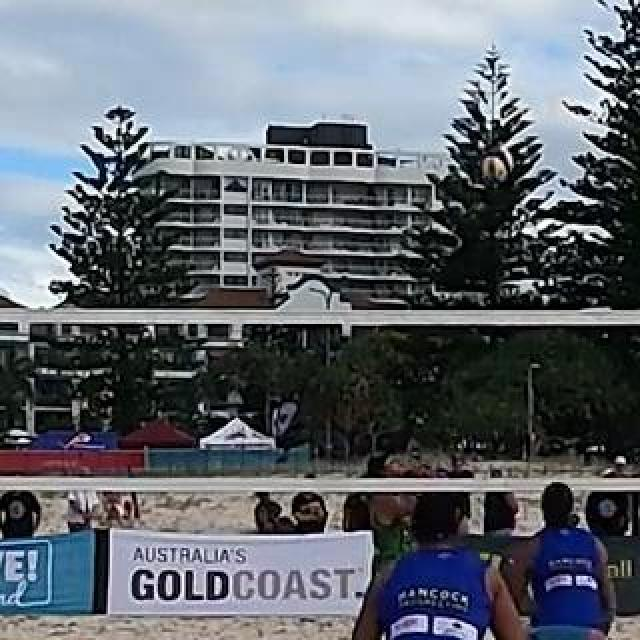volleyball: (480, 152, 510, 182)
